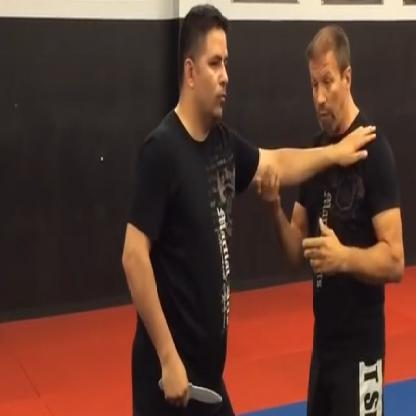knife: (156, 370, 224, 411)
